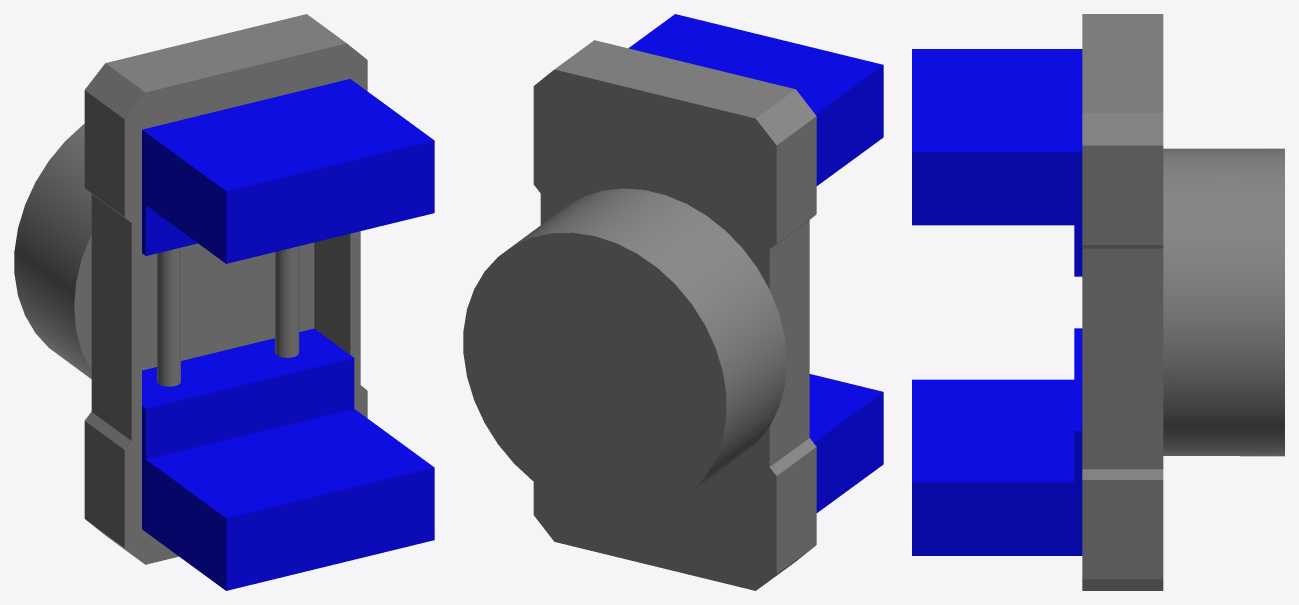
Rendered from leftarm_link7.obj.
3 renders of one model, left to right at view 1: azimuth 30°, elevation 25°; view 2: azimuth 150°, elevation 25°; view 3: azimuth 270°, elevation 25°, orthographic.
Visible parts, largest first — view 1: Mesh (2166), Mesh (3138), Mesh (2652); view 2: Mesh (2166), Mesh (2652), Mesh (3138); view 3: Mesh (2166), Mesh (2652), Mesh (3138).
Part boxes in pixels (x1,y1,x2,y2): Mesh (2166): (14,14,367,564); Mesh (3138): (142,328,434,590); Mesh (2652): (142,79,434,263); Mesh (2166): (463,40,816,590); Mesh (2652): (628,14,883,185); Mesh (3138): (809,374,883,512); Mesh (2166): (1082,14,1284,590); Mesh (2652): (912,49,1082,276); Mesh (3138): (912,328,1082,555).
Size of the model in its own units: 0.076 by 0.13 by 0.092.
